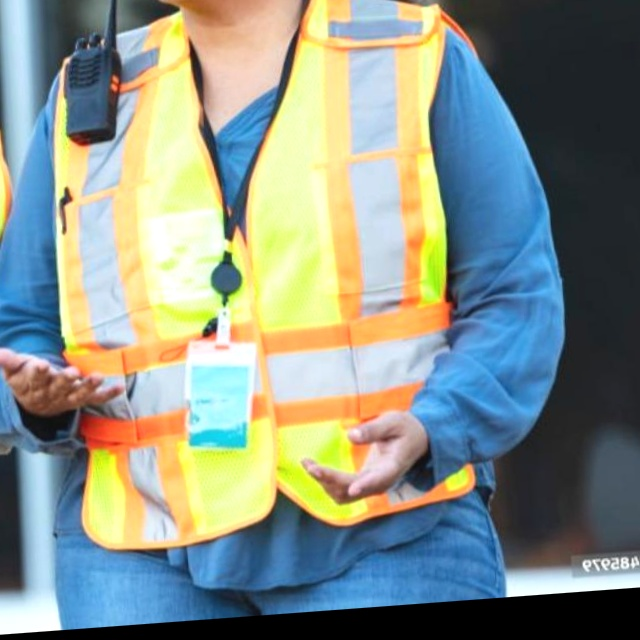Con_Chaleco: (27, 0, 505, 556)
